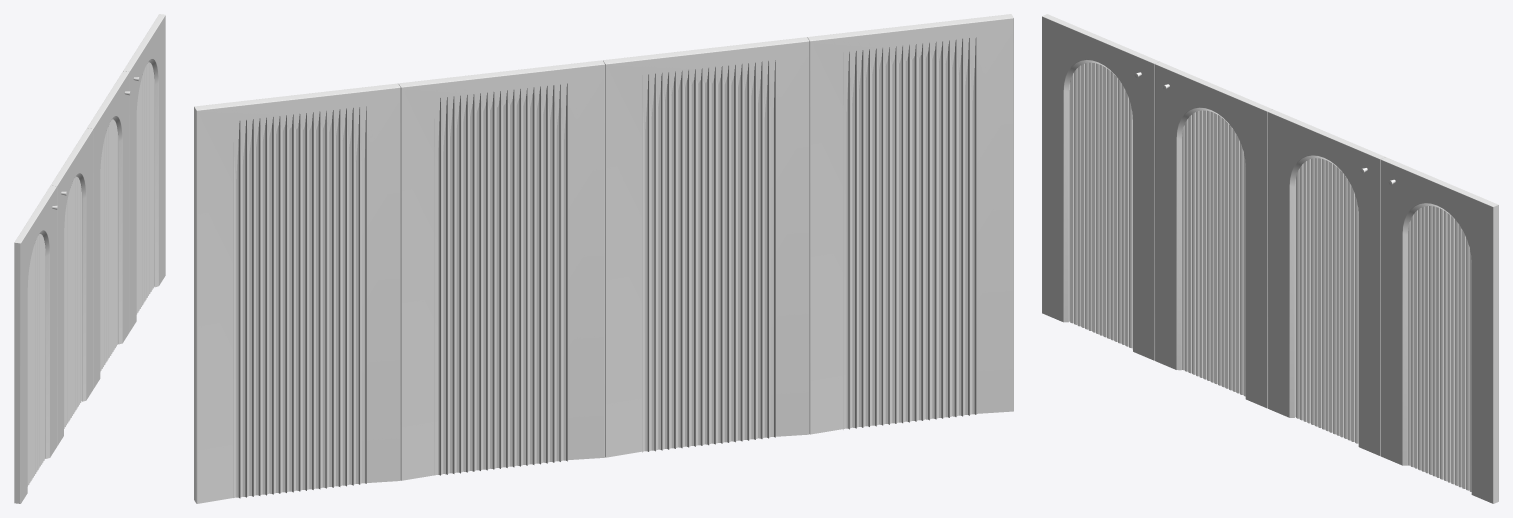
File: tvtable_0303_door.glb
3 views of the same model, side by side, from view 1: azimuth 30°, elevation 25°; view 2: azimuth 150°, elevation 25°; view 3: azimuth 270°, elevation 25° (orthographic). The views are drawn at different scales.
Parts seen in each view (by area): view 1: tvtable_0303_door; view 2: tvtable_0303_door; view 3: tvtable_0303_door.
Boxes of the visible parts, <box> form: tvtable_0303_door: <box>14,14,165,503</box>; tvtable_0303_door: <box>194,14,1013,503</box>; tvtable_0303_door: <box>1042,14,1498,503</box>.
Size of the model in its own units: 1.15 by 0.8224 by 1.15.
1 material, 1 textured.
